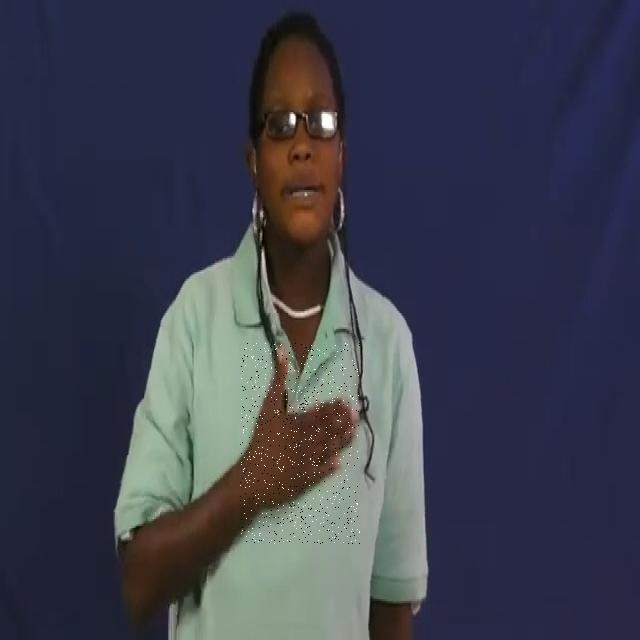please: (240, 343, 360, 544)
